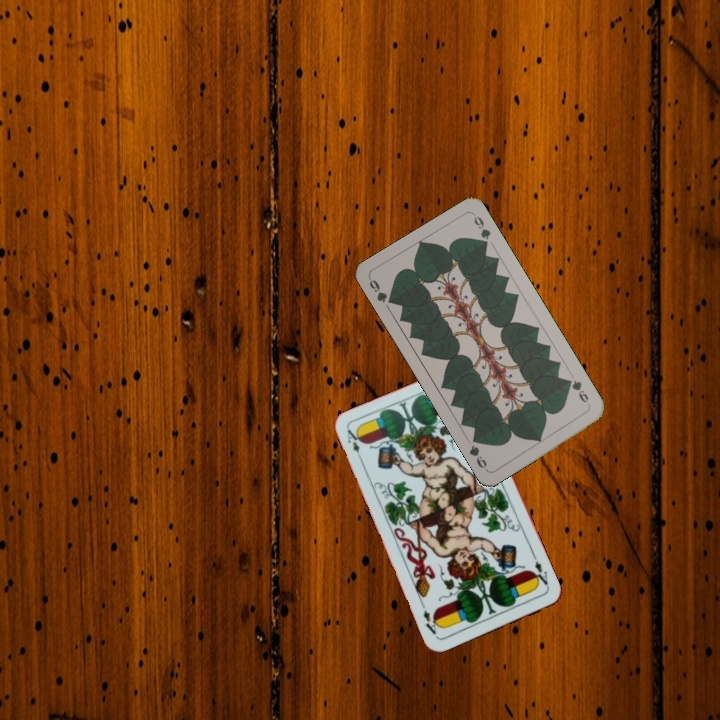EA: (343, 425, 365, 464), (528, 556, 552, 590)
G9: (365, 274, 397, 307), (563, 375, 593, 409)
